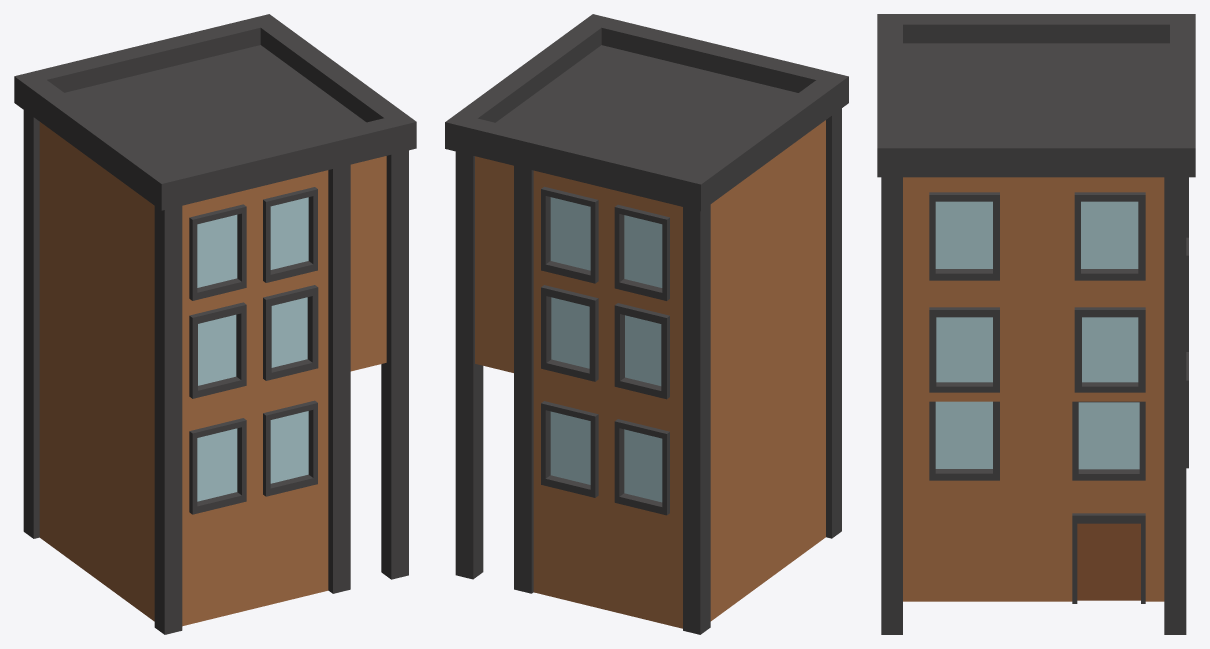
The model's file is house_entrance001.fbx.
3 views of the same model, side by side, from view 1: azimuth 30°, elevation 25°; view 2: azimuth 150°, elevation 25°; view 3: azimuth 270°, elevation 25° (orthographic). The views are drawn at different scales.
Visible parts, largest first — view 1: Base.118; view 2: Base.118; view 3: Base.118.
Part boxes in pixels (bbox=[...]): Base.118: bbox=[14, 14, 416, 634]; Base.118: bbox=[445, 14, 848, 634]; Base.118: bbox=[877, 14, 1195, 634].
Size of the model in its own units: 875 by 1485 by 875.
